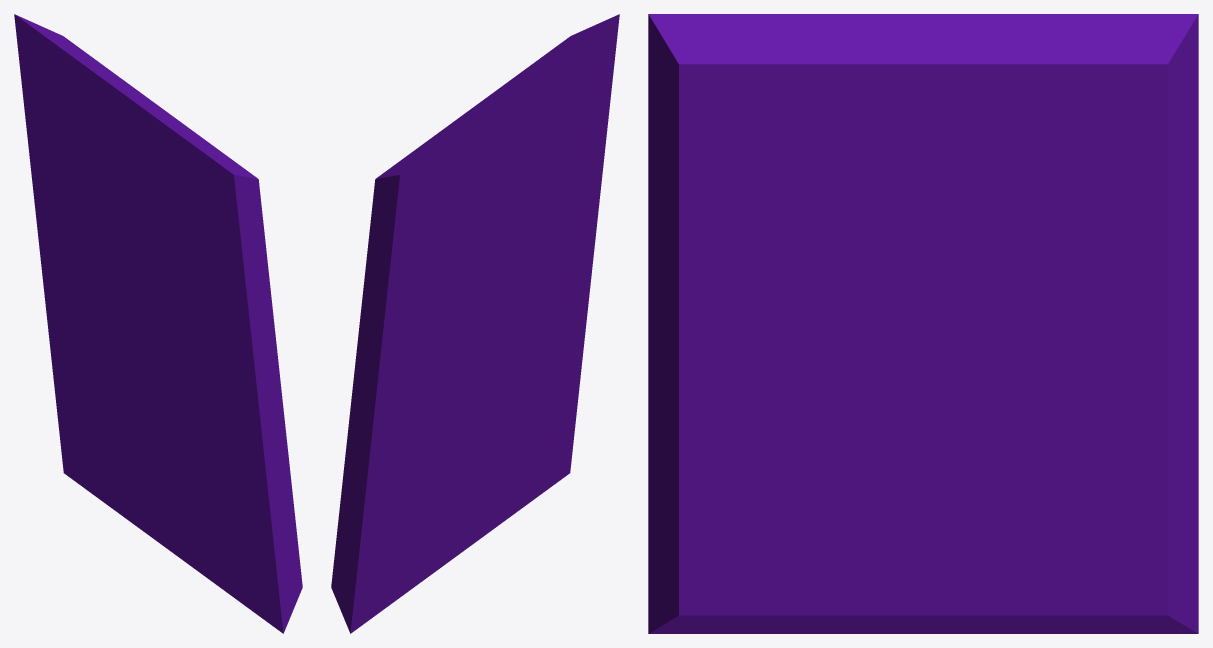
Rendered from SeatPouch_102_chunks.fbx.
The picture shows the model from 3 angles, left to right: view 1: azimuth 30°, elevation 25°; view 2: azimuth 150°, elevation 25°; view 3: azimuth 270°, elevation 25°; orthographic projection. The views are drawn at different scales.
Visible parts, largest first — view 1: SeatPouch_102_0; view 2: SeatPouch_102_0; view 3: SeatPouch_102_0.
Part boxes in pixels (box(x1,y1,x2,y2)): SeatPouch_102_0: box(14, 14, 302, 633); SeatPouch_102_0: box(331, 14, 619, 633); SeatPouch_102_0: box(648, 14, 1198, 633).
Bounding box in the file's own units: 60.11 × 334 × 282.
